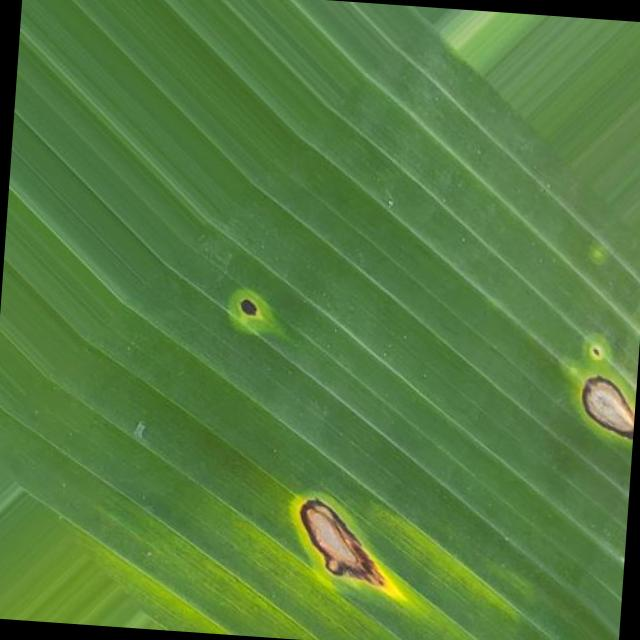Banana_Black_Sigatoka: (214, 452, 446, 623), (534, 328, 640, 512)
